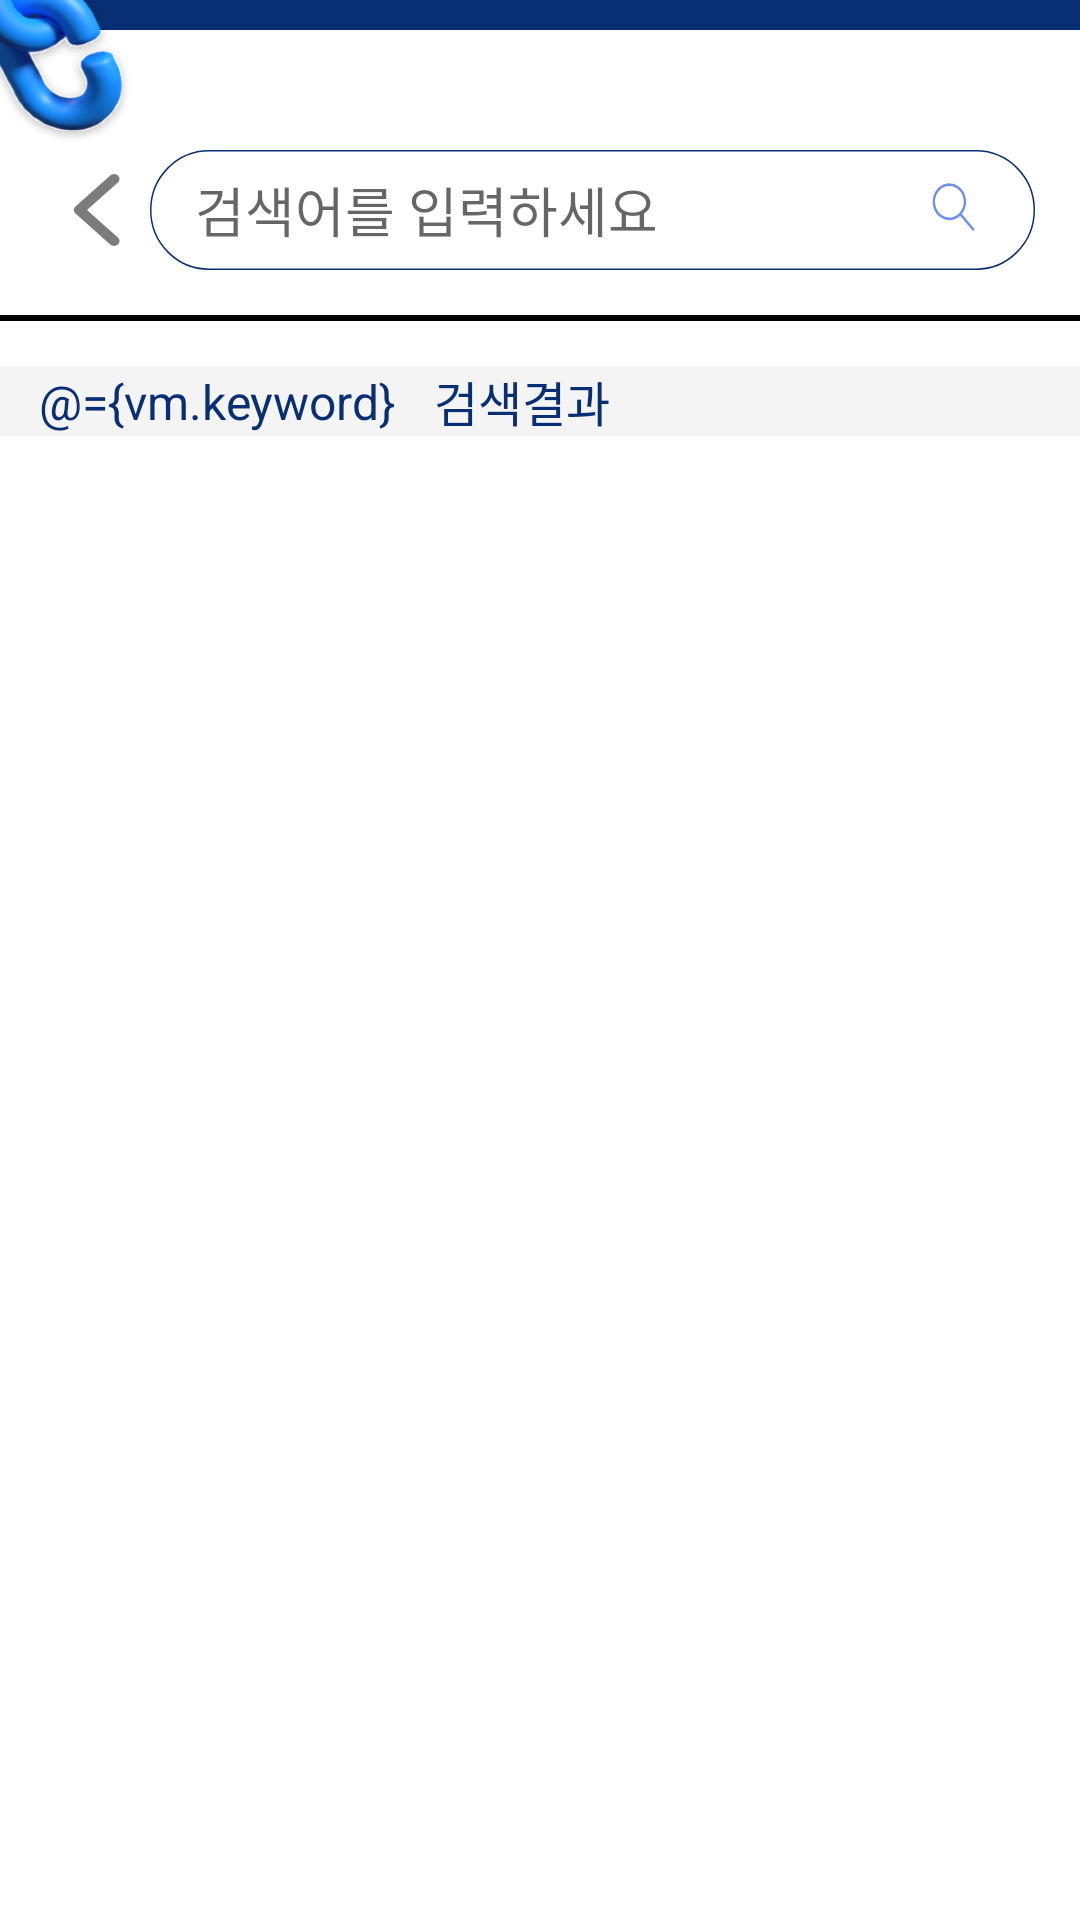

Locate icon controls on the screen. Image size 1080px x 1920px, boxes as (x1, y1, x2, y2).
back: (74, 174, 120, 246)
search: (932, 183, 975, 231)
